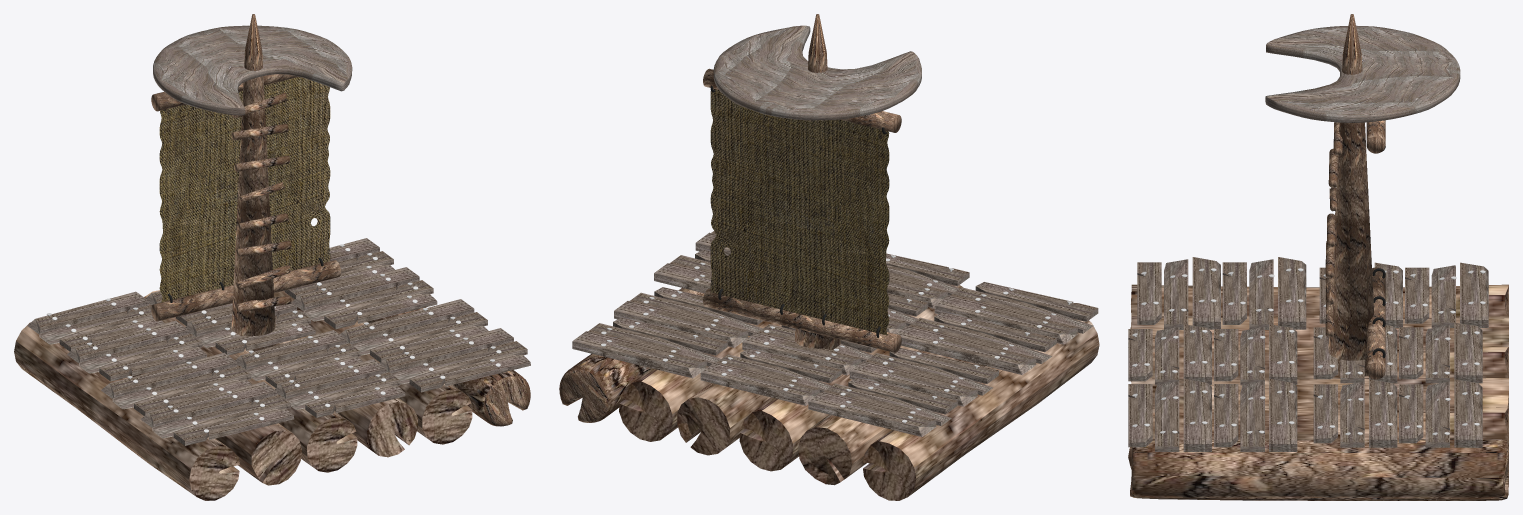
File: PlotMAX.fbx
The picture shows the model from 3 angles, left to right: view 1: azimuth 30°, elevation 25°; view 2: azimuth 150°, elevation 25°; view 3: azimuth 270°, elevation 25°; orthographic projection. The views are drawn at different scales.
Parts seen in each view (by area): view 1: wood.003, Plane, Cylinder.012, churka3LP, Cylinder, churka1LP, churka1LP.002, churka2hp, churka1LP.001, churka1LP.003, Cylinder.010, bolt.003 (+1 smaller); view 2: wood.003, Plane, Cylinder.012, churka3LP, churka1LP, churka1LP.002, churka2hp, churka1LP.001, churka1LP.003, Cylinder.010, Cylinder, bolt.003 (+1 smaller); view 3: wood.003, churka1LP.003, Cylinder.012, Cylinder, churka1LP.001, churka1LP.002, churka2hp, churka1LP, churka3LP, bolt.003, Cylinder.010, Cylinder.011.
Part boxes in pixels (x1=…): wood.003: x1=27, y1=238, x2=530, y2=445; Plane: x1=159, y1=77, x2=330, y2=302; Cylinder.012: x1=153, y1=25, x2=352, y2=115; churka3LP: x1=14, y1=322, x2=239, y2=500; Cylinder: x1=231, y1=14, x2=275, y2=351; churka1LP: x1=144, y1=290, x2=357, y2=472; churka1LP.002: x1=274, y1=291, x2=472, y2=444; churka2hp: x1=130, y1=368, x2=301, y2=485; churka1LP.001: x1=275, y1=335, x2=417, y2=457; churka1LP.003: x1=367, y1=307, x2=530, y2=426; Cylinder.010: x1=151, y1=260, x2=340, y2=321; bolt.003: x1=46, y1=244, x2=501, y2=432; wood.003: x1=572, y1=231, x2=1098, y2=436; Plane: x1=710, y1=88, x2=889, y2=335; Cylinder.012: x1=713, y1=25, x2=921, y2=120; churka3LP: x1=863, y1=318, x2=1099, y2=500; churka1LP: x1=739, y1=283, x2=962, y2=471; churka1LP.002: x1=619, y1=321, x2=781, y2=441; churka2hp: x1=798, y1=350, x2=983, y2=485; churka1LP.001: x1=677, y1=383, x2=772, y2=455; churka1LP.003: x1=559, y1=288, x2=704, y2=422; Cylinder.010: x1=703, y1=288, x2=901, y2=352; Cylinder: x1=794, y1=14, x2=840, y2=350; bolt.003: x1=601, y1=255, x2=1072, y2=423; wood.003: x1=1128, y1=257, x2=1488, y2=451; churka1LP.003: x1=1130, y1=438, x2=1508, y2=500; Cylinder.012: x1=1265, y1=25, x2=1460, y2=122; Cylinder: x1=1328, y1=14, x2=1373, y2=376; churka1LP.001: x1=1131, y1=378, x2=1508, y2=408; churka1LP.002: x1=1128, y1=407, x2=1508, y2=469; churka2hp: x1=1131, y1=316, x2=1508, y2=347; churka1LP: x1=1131, y1=347, x2=1508, y2=383; churka3LP: x1=1130, y1=284, x2=1508, y2=328; bolt.003: x1=1132, y1=268, x2=1485, y2=435; Cylinder.010: x1=1366, y1=267, x2=1385, y2=379; Cylinder.011: x1=1366, y1=120, x2=1385, y2=153.
Size of the model in its own units: 16955 by 16988 by 14422.
